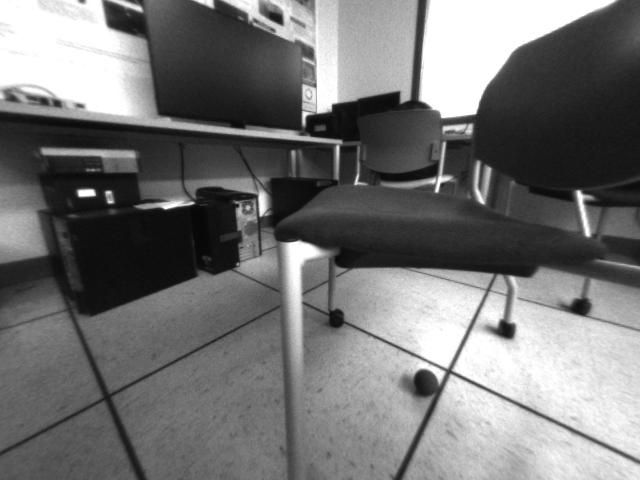dogtoy: (409, 363, 442, 399)
